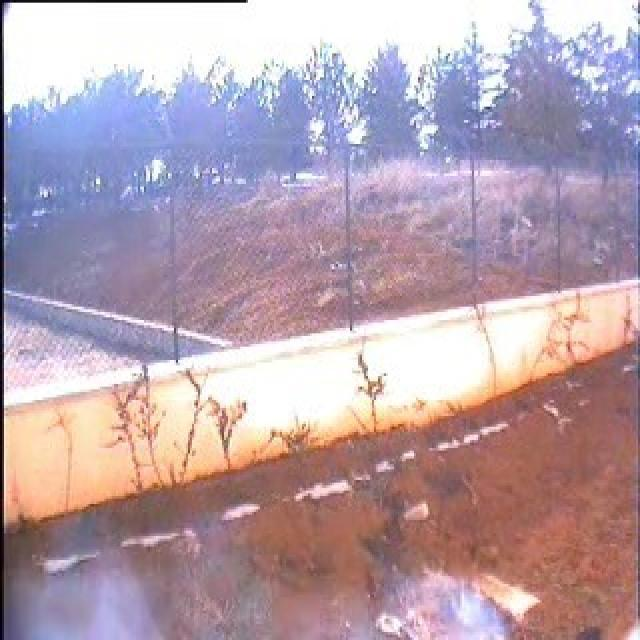Smoke: (15, 568, 150, 640)
